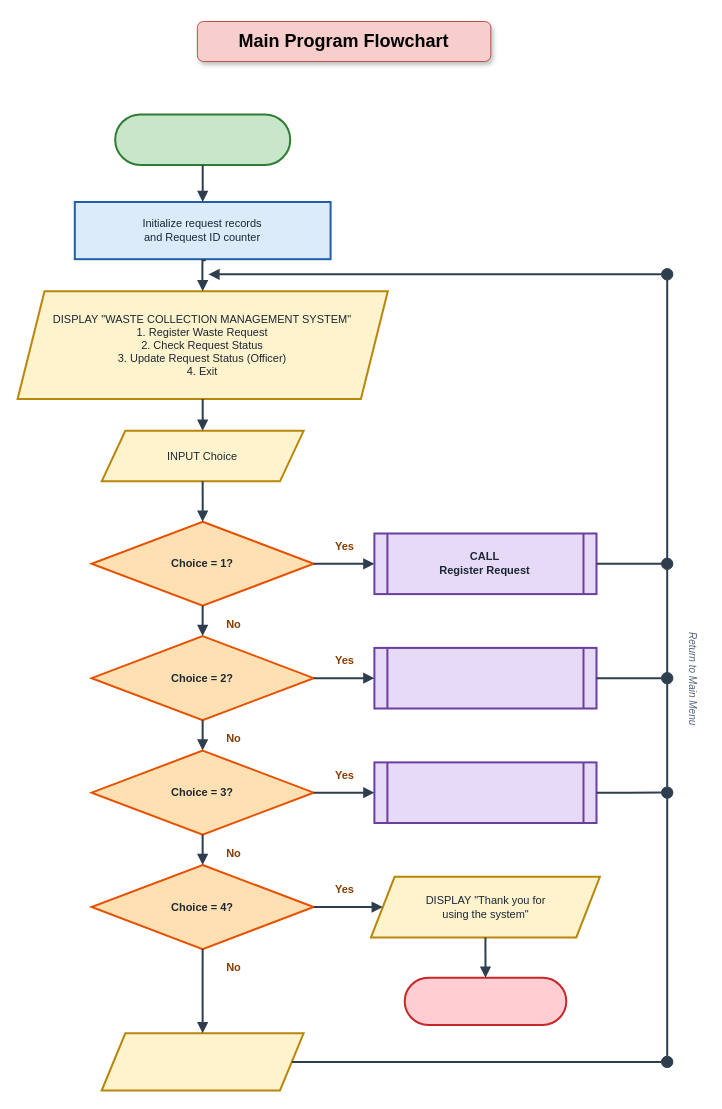
Some shapes in this 722 by 1109 pixel diagram are drawn without their labels. Here are the shapes that lost their labels. From the top down, the centre of each, then its label:
[202,139]: START
[485,677]: CALL Check Request Status
[485,792]: CALL Update Request Status
[485,1000]: END
[202,1061]: DISPLAY "Invalid choice"
